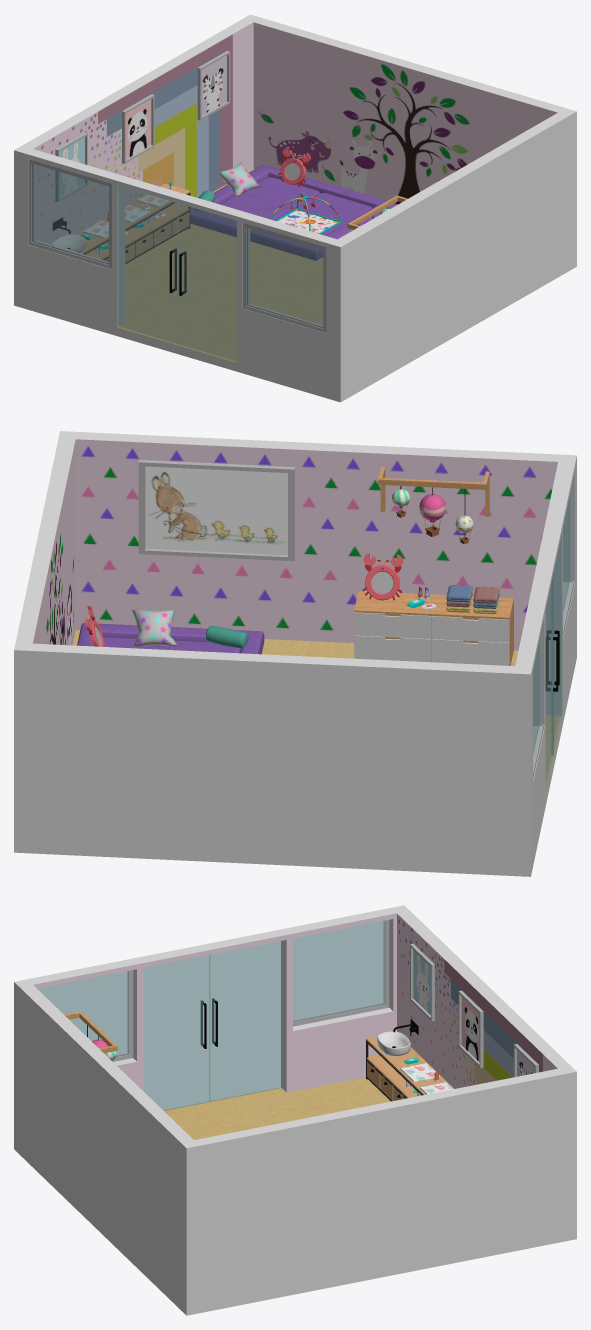
The model's file is WarmUp_Unit.fbx.
The picture shows the model from 3 angles, top to bottom: view 1: azimuth 30°, elevation 25°; view 2: azimuth 150°, elevation 25°; view 3: azimuth 270°, elevation 25°; orthographic projection. The views are drawn at different scales.
Visible parts, largest first — view 1: WU_Wall03, WU_Wall02, WU_Wall04, WU_Wall01, WU_GlassDoor, WU_Floor, WU_Window_01, WU_Window_02, WU_FloorBed_02, WU_BigFurniture_02, WU_Frame_02, WU_Frame_01 (+4 smaller); view 2: WU_Wall01, WU_Wall03, WU_BigFrame, WU_Wall04, WU_Cupboard1, WU_Wall02, WU_GlassDoor, WU_HotAirBalloons, WU_FloorBed_03, WU_Floor, WU_CrabMirror_03, WU_Window_01 (+5 smaller); view 3: WU_Wall02, WU_Wall03, WU_GlassDoor, WU_Wall04, WU_Wall01, WU_Window_02, WU_Floor, WU_Window_01, WU_BigFurniture_02, WU_Frame_01, WU_Frame_03, WU_HotAirBalloons (+1 smaller).
Boxes of the visible parts, x1=… form: WU_Wall03: x1=337, y1=111, x2=576, y2=401; WU_Wall02: x1=250, y1=14, x2=575, y2=204; WU_Wall04: x1=14, y1=149, x2=340, y2=402; WU_Wall01: x1=14, y1=15, x2=253, y2=244; WU_GlassDoor: x1=117, y1=186, x2=236, y2=362; WU_Floor: x1=118, y1=168, x2=322, y2=362; WU_Window_01: x1=242, y1=223, x2=326, y2=332; WU_Window_02: x1=28, y1=159, x2=111, y2=269; WU_FloorBed_02: x1=190, y1=164, x2=397, y2=260; WU_BigFurniture_02: x1=52, y1=183, x2=190, y2=263; WU_Frame_02: x1=197, y1=51, x2=230, y2=120; WU_Frame_01: x1=122, y1=94, x2=154, y2=163; WU_Wall01: x1=14, y1=643, x2=530, y2=876; WU_Wall03: x1=60, y1=431, x2=576, y2=650; WU_BigFrame: x1=138, y1=459, x2=294, y2=561; WU_Wall04: x1=515, y1=455, x2=576, y2=875; WU_Cupboard1: x1=354, y1=591, x2=513, y2=665; WU_Wall02: x1=14, y1=431, x2=75, y2=649; WU_GlassDoor: x1=545, y1=532, x2=562, y2=793; WU_HotAirBalloons: x1=378, y1=466, x2=489, y2=544; WU_FloorBed_03: x1=77, y1=623, x2=264, y2=654; WU_Floor: x1=72, y1=630, x2=562, y2=794; WU_CrabMirror_03: x1=362, y1=553, x2=403, y2=600; WU_Window_01: x1=563, y1=473, x2=574, y2=636; WU_Wall02: x1=186, y1=1068, x2=576, y2=1315; WU_Wall03: x1=14, y1=982, x2=193, y2=1315; WU_GlassDoor: x1=143, y1=941, x2=281, y2=1110; WU_Wall04: x1=14, y1=905, x2=403, y2=1092; WU_Wall01: x1=397, y1=905, x2=576, y2=1088; WU_Window_02: x1=293, y1=920, x2=389, y2=1026; WU_Floor: x1=164, y1=1077, x2=390, y2=1139; WU_Window_01: x1=37, y1=970, x2=133, y2=1061; WU_BigFurniture_02: x1=366, y1=1019, x2=453, y2=1101; WU_Frame_01: x1=458, y1=990, x2=483, y2=1068; WU_Frame_03: x1=410, y1=943, x2=434, y2=1021; WU_HotAirBalloons: x1=64, y1=1011, x2=117, y2=1060.
Bounding box in the file's own units: 1362 × 437 × 1333.
